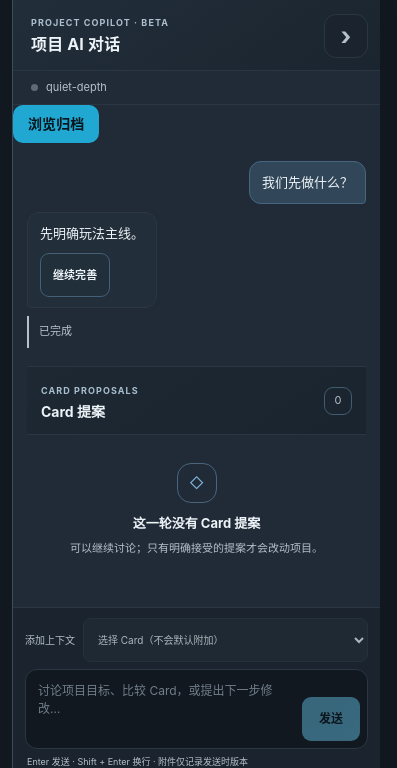
Test: ProjectConversationDrawer › 性能数据默认折叠，折叠归档管理后活动对话保持可见
This screenshot has width=397, height=768.
Expected: the text "先明确玩法主线。" is shown, [40,223,144,243]
Click the button "浏览归档" at (56, 124), box [13,105,99,143]
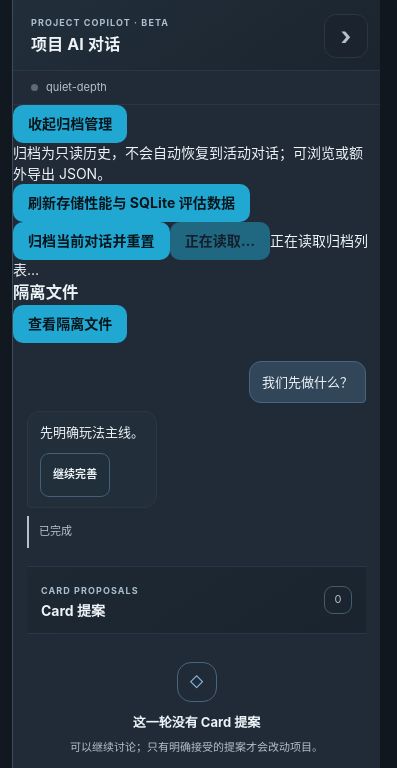
Click the button "刷新存储性能与 SQLite 评估数据" at (132, 203), box [13,184,250,222]
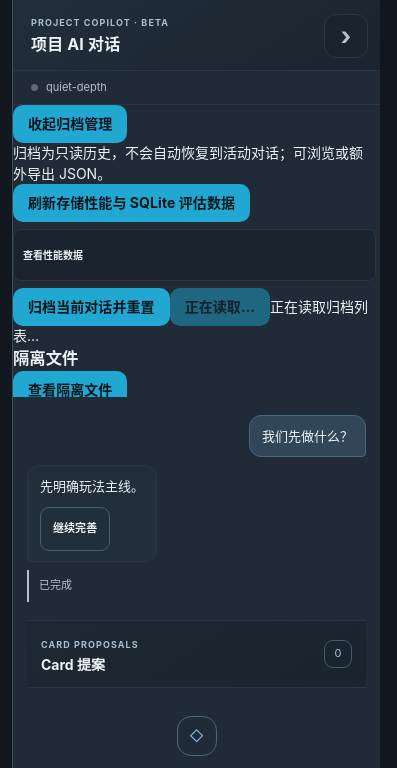
Click the heading "查看性能数据" at (53, 255), box [23,249,83,261]
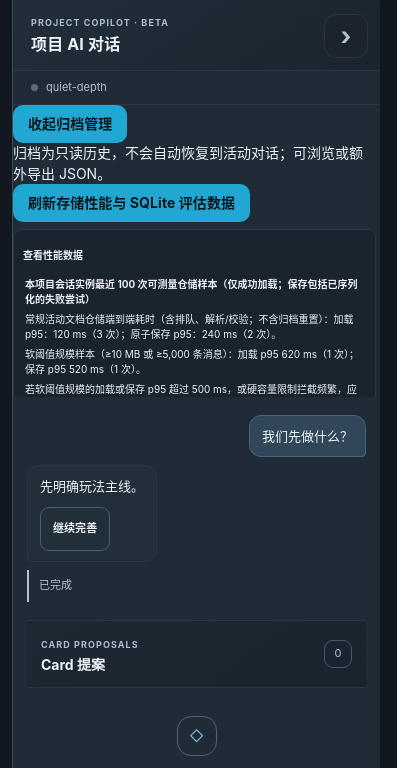
Now the element named "对话存储性能指标" shows "120 ms", box [53,328,87,340]
Click the button "收起归档管理" at (70, 124), box [13,105,127,143]
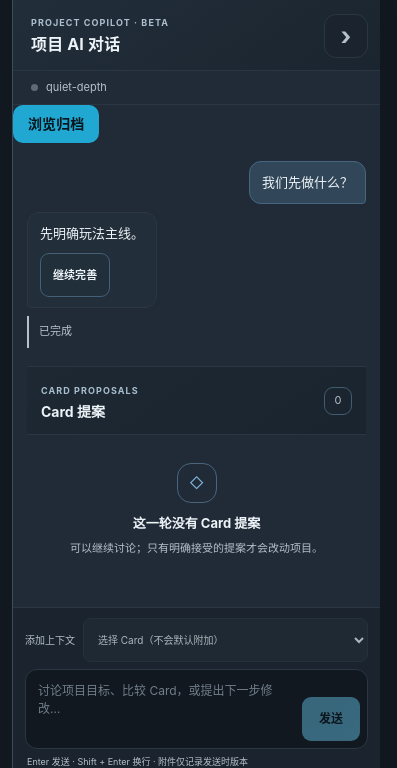
Expected: the element named "对话历史" shows "先明确玩法主线。", [40,225,144,241]
Now the button "浏览归档" is collapsed, box [13,105,99,143]
Now the button "刷新存储性能与 SQLite 评估数据" is gone
